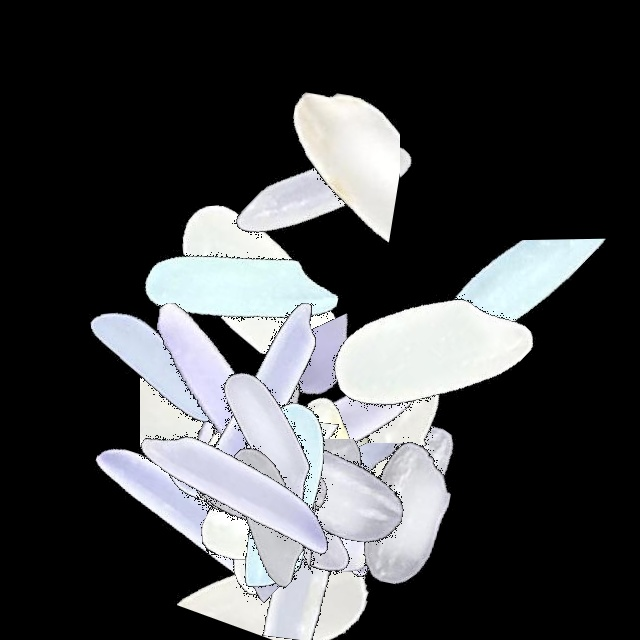Broken: (180, 466, 430, 640), (219, 293, 469, 465), (449, 196, 612, 446), (192, 439, 442, 600), (161, 484, 411, 640), (245, 41, 400, 291), (170, 390, 318, 640), (241, 390, 387, 640), (140, 266, 280, 516), (137, 416, 387, 549), (270, 266, 402, 516), (151, 390, 282, 640), (286, 378, 410, 628), (195, 274, 318, 524), (229, 486, 479, 608), (231, 374, 341, 624), (254, 443, 504, 550), (278, 445, 528, 548), (193, 363, 296, 613), (177, 486, 427, 585), (217, 374, 311, 624), (174, 390, 264, 640), (211, 270, 287, 520)
Full: (186, 333, 436, 583), (276, 358, 526, 608), (88, 354, 338, 604), (241, 328, 491, 578), (59, 390, 309, 640), (144, 349, 394, 599), (206, 345, 456, 595), (135, 157, 385, 407), (173, 342, 423, 592), (118, 301, 368, 551), (165, 371, 415, 621), (26, 244, 276, 494), (192, 366, 442, 616), (220, 390, 470, 640), (281, 390, 531, 640), (118, 163, 368, 413), (306, 229, 556, 479), (96, 264, 346, 514), (173, 390, 423, 640), (216, 368, 466, 618), (199, 67, 449, 317), (135, 360, 385, 610), (136, 265, 386, 515), (161, 372, 411, 622), (142, 310, 392, 560), (143, 390, 393, 640), (114, 365, 364, 615)
